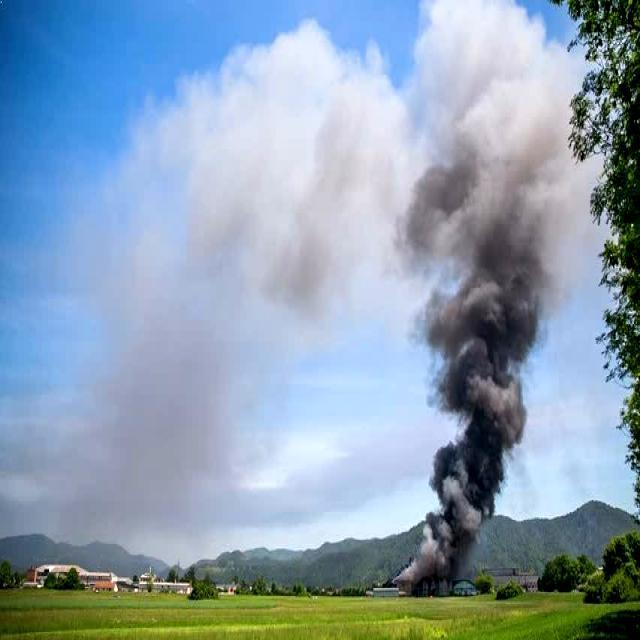Smoke: (74, 29, 422, 541), (396, 18, 612, 589)
